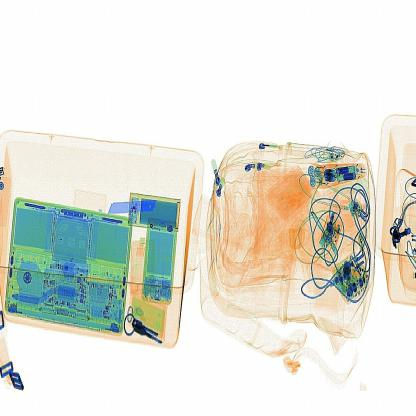pliers: (100, 194, 158, 220)
